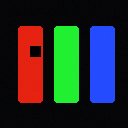1 square: (30, 46, 40, 56)
